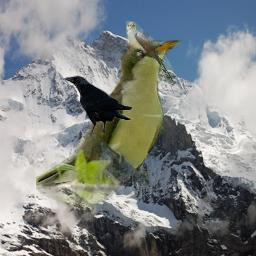Crow: (63, 75, 132, 138)
Cuckoo: (36, 35, 184, 209), (126, 21, 174, 83)
